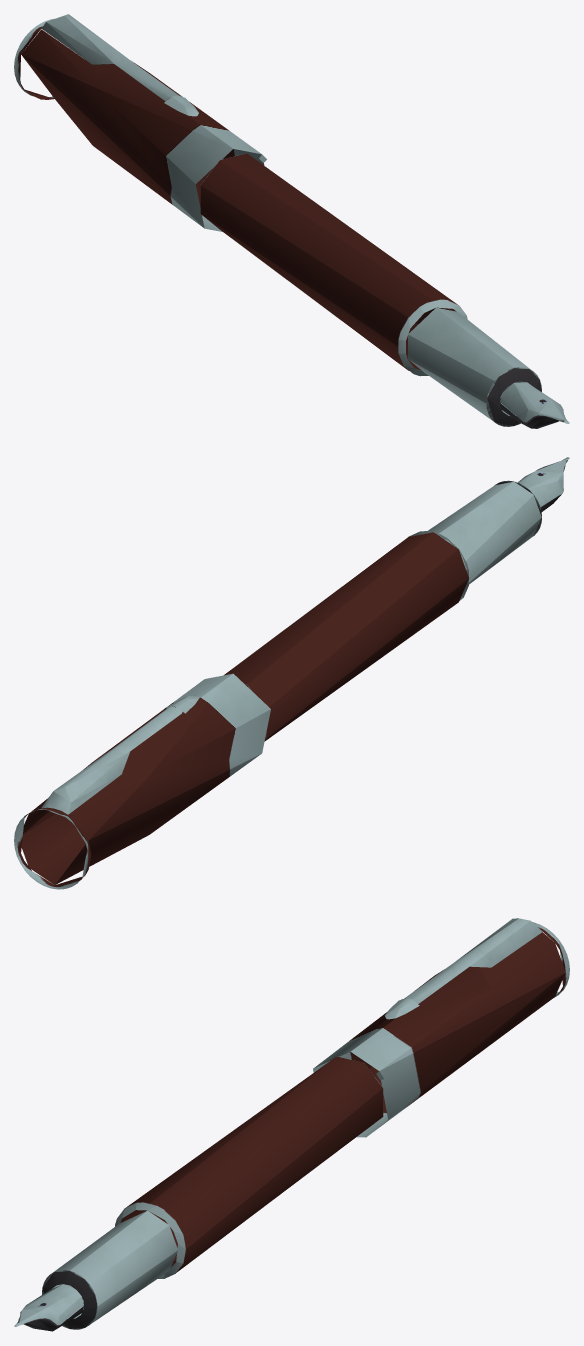
File: Pen.fbx
3 views of the same model, one above another, from view 1: azimuth 30°, elevation 25°; view 2: azimuth 150°, elevation 25°; view 3: azimuth 330°, elevation 25° (orthographic).
Parts seen in each view (by area): view 1: Pen; view 2: Pen; view 3: Pen.
Boxes of the visible parts, box(x1,y1,x2,y2) form: Pen: box(14, 14, 569, 428); Pen: box(14, 457, 569, 889); Pen: box(14, 918, 569, 1331).
Size of the model in its own units: 1.01 by 1.22 by 12.01.
Materials: 1 (1 with a texture image).
